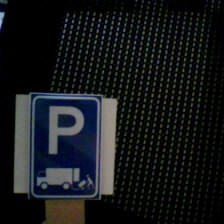load: (20, 87, 108, 205)
